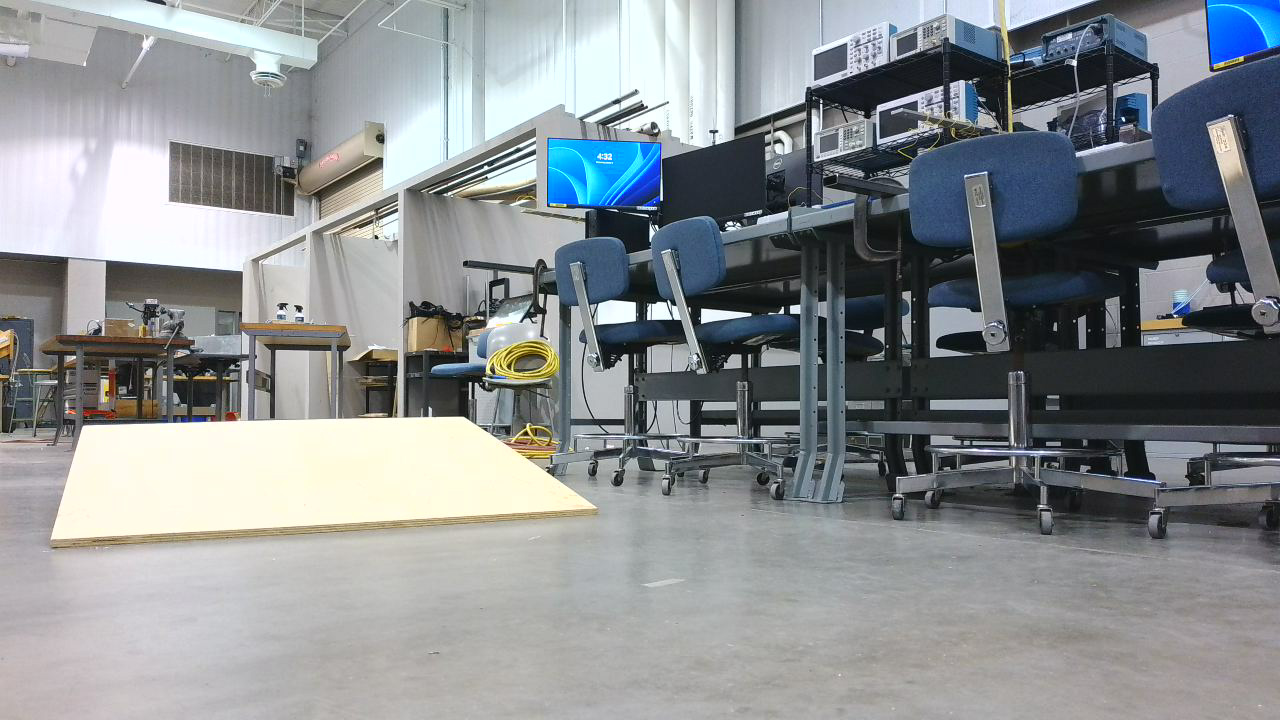ramp: (40, 416, 609, 558)
